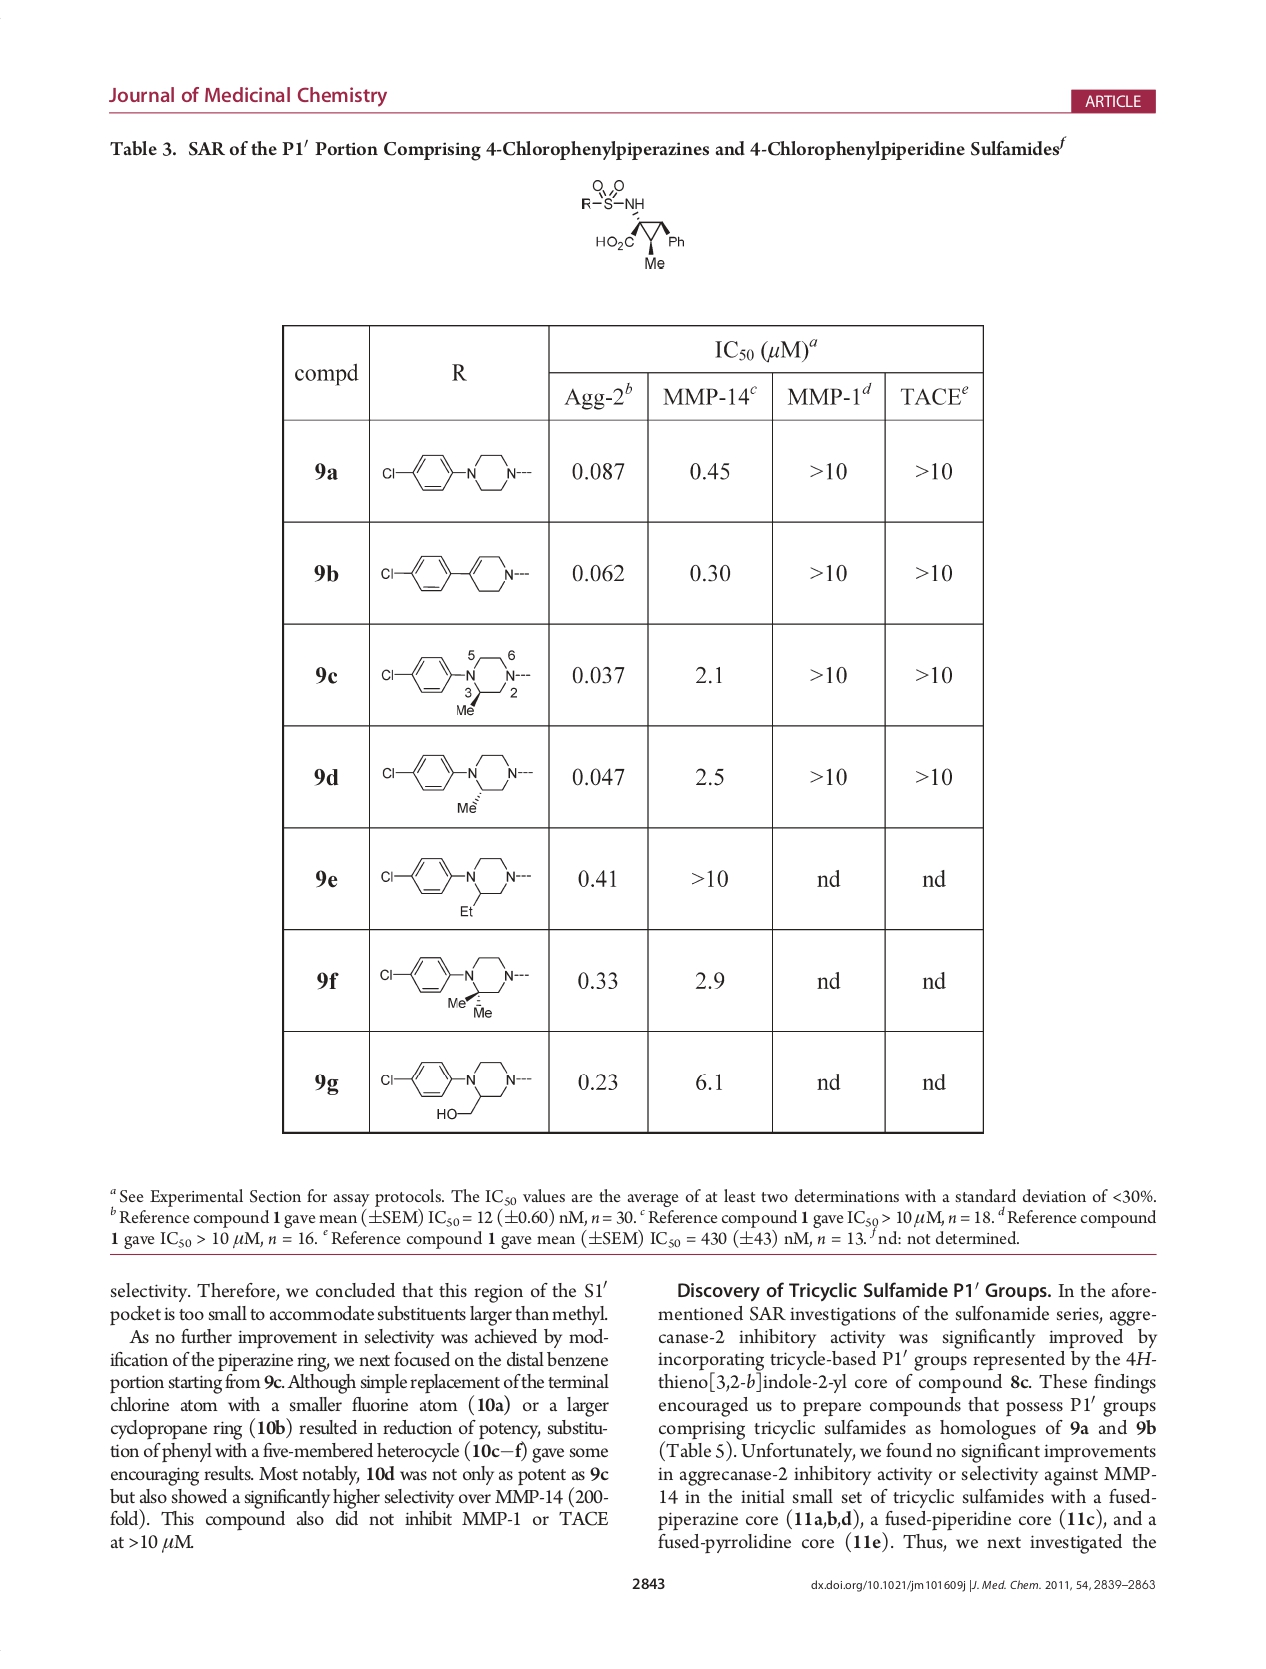exist_molecular: (378, 951, 531, 1024), (576, 173, 686, 273), (375, 1059, 533, 1125), (379, 751, 536, 818), (379, 852, 533, 918), (380, 654, 533, 719), (379, 444, 537, 497), (376, 551, 532, 600)
